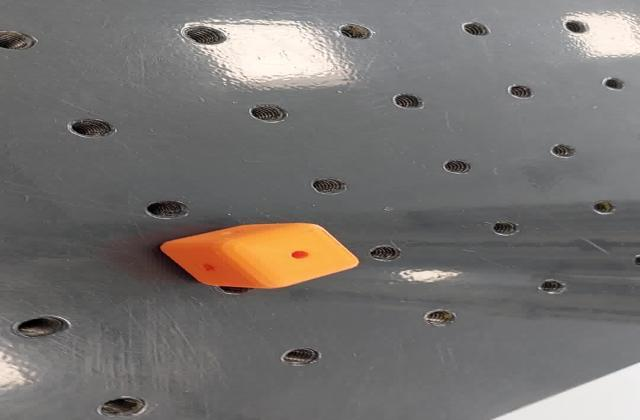cube: (150, 221, 366, 291)
